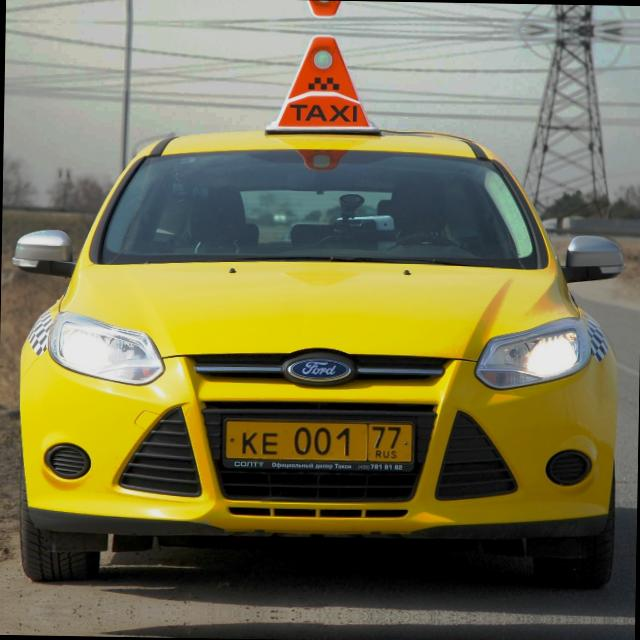taxi: (213, 408, 423, 478)
